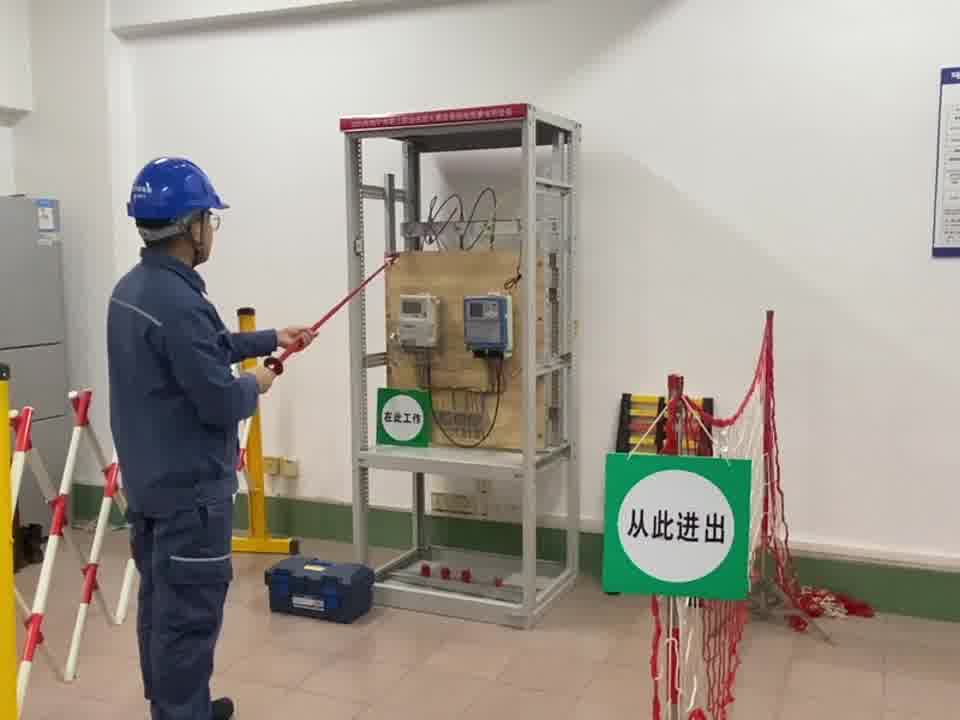downsuit: (127, 509, 235, 720)
halt: (127, 155, 229, 266)
hand: (253, 355, 278, 394), (279, 324, 315, 350)
inear: (177, 213, 209, 255)
intosign: (607, 453, 750, 598)
person: (93, 151, 293, 720)
testrod: (264, 254, 402, 375)
upsuit: (105, 262, 278, 504)
worksign: (374, 387, 433, 449)
wronghold: (264, 313, 327, 375)
